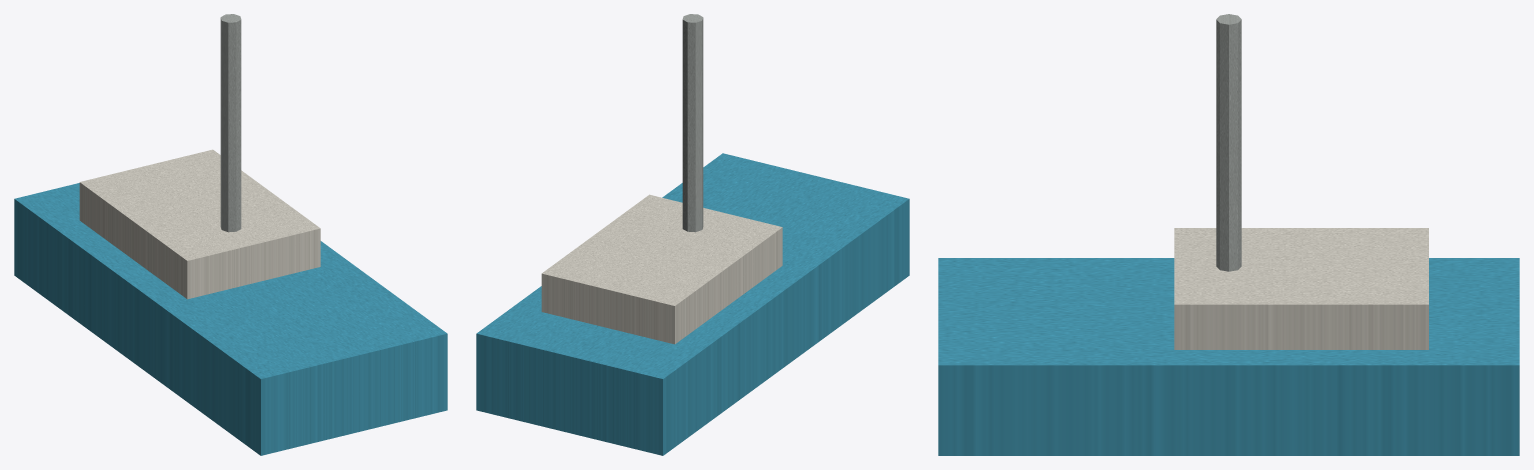
Rendered from fishing_boat_lod1.glb.
The picture shows the model from 3 angles, left to right: view 1: azimuth 30°, elevation 25°; view 2: azimuth 150°, elevation 25°; view 3: azimuth 270°, elevation 25°; orthographic projection. The views are drawn at different scales.
Parts seen in each view (by area): view 1: world; view 2: world; view 3: world.
Boxes of the visible parts, left/top/right/bottom form: world: left=14, top=14, right=447, bottom=455; world: left=476, top=14, right=909, bottom=455; world: left=938, top=14, right=1519, bottom=455.
Size of the model in its own units: 1.4 by 2.33 by 3.2.
3 materials, 3 textured.
